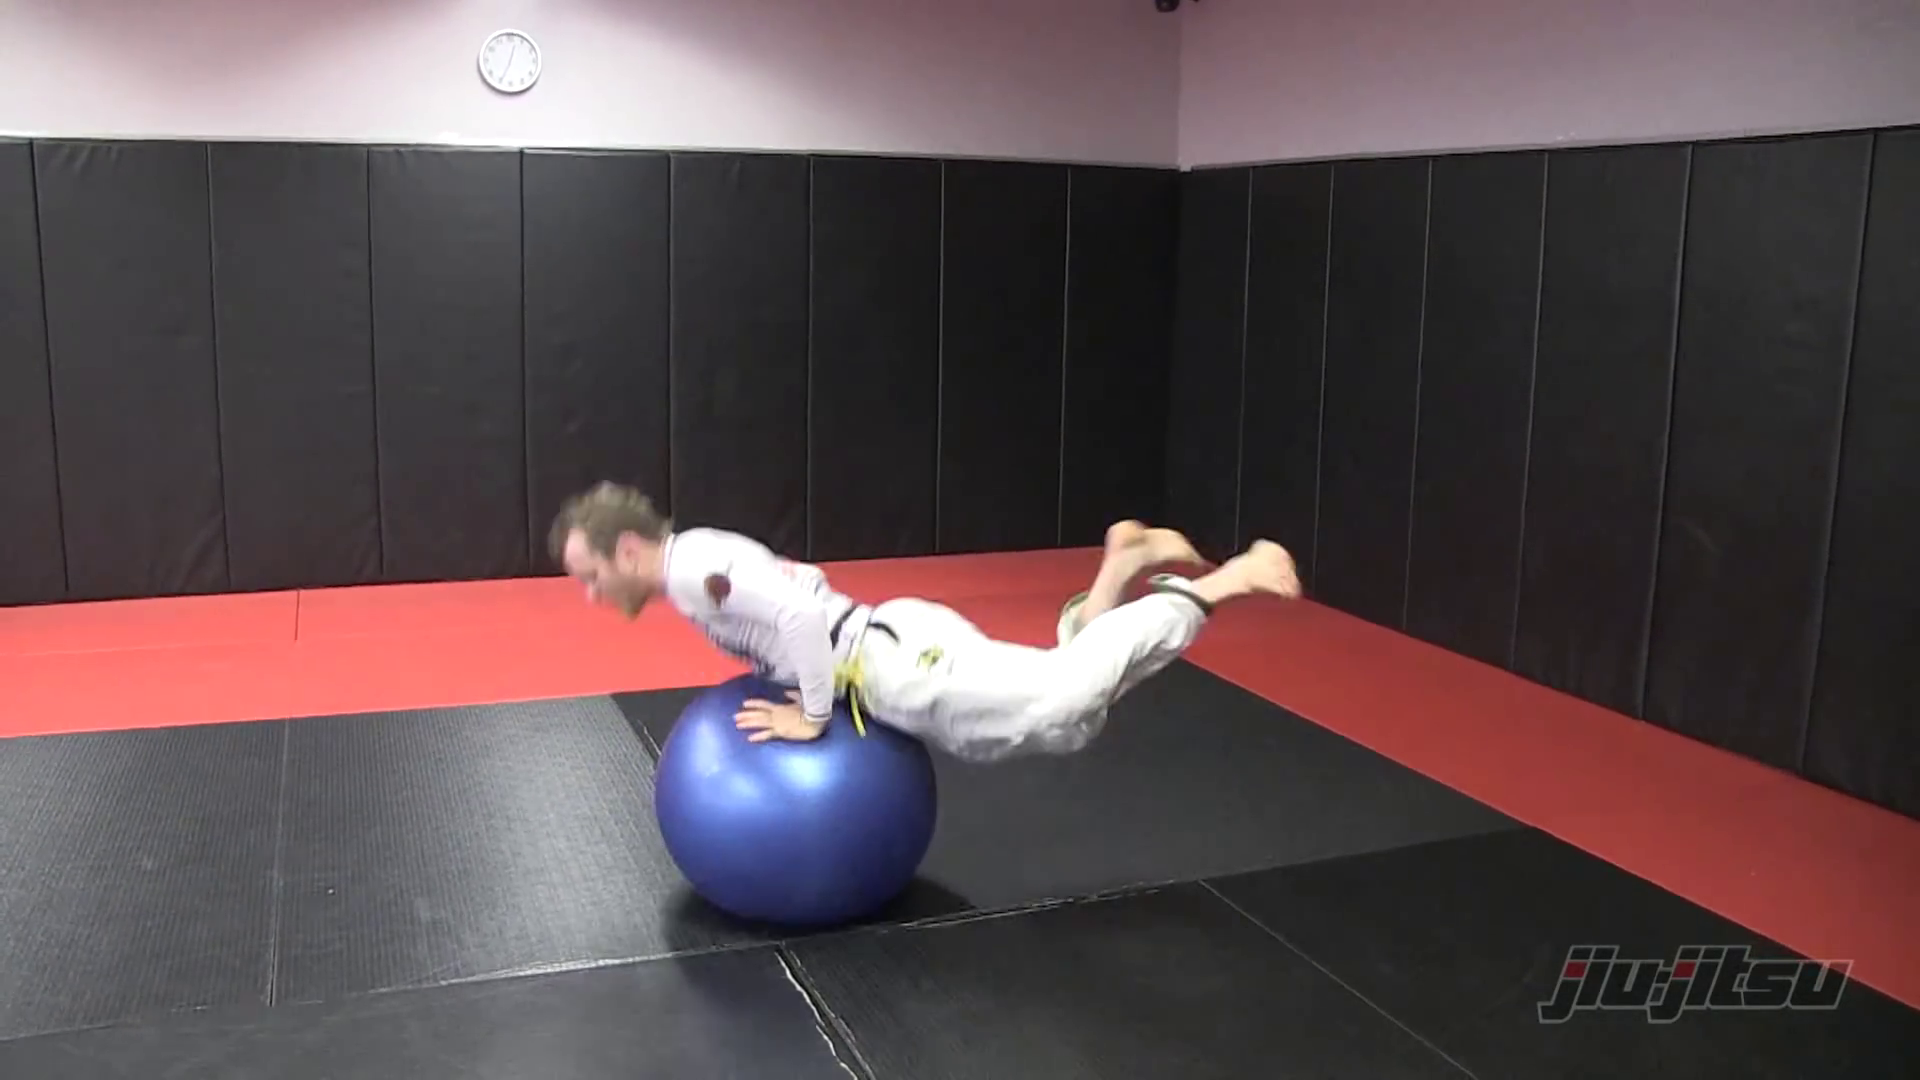yogaball: (654, 678, 963, 932)
